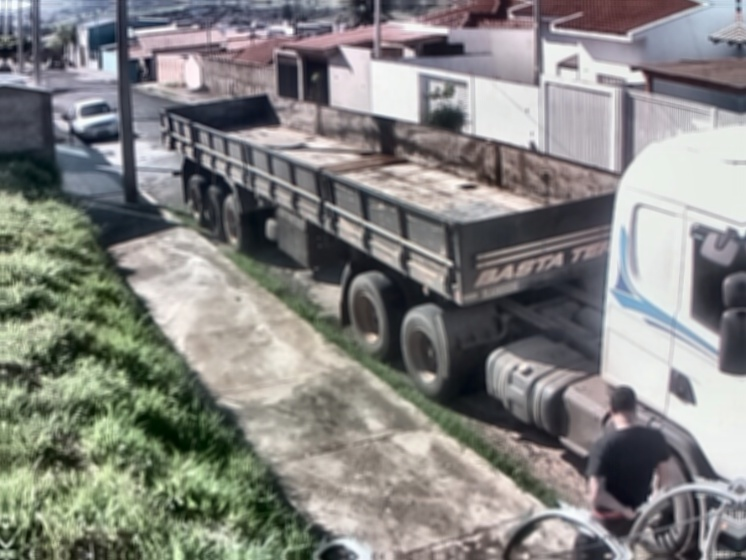person: (568, 384, 675, 560)
